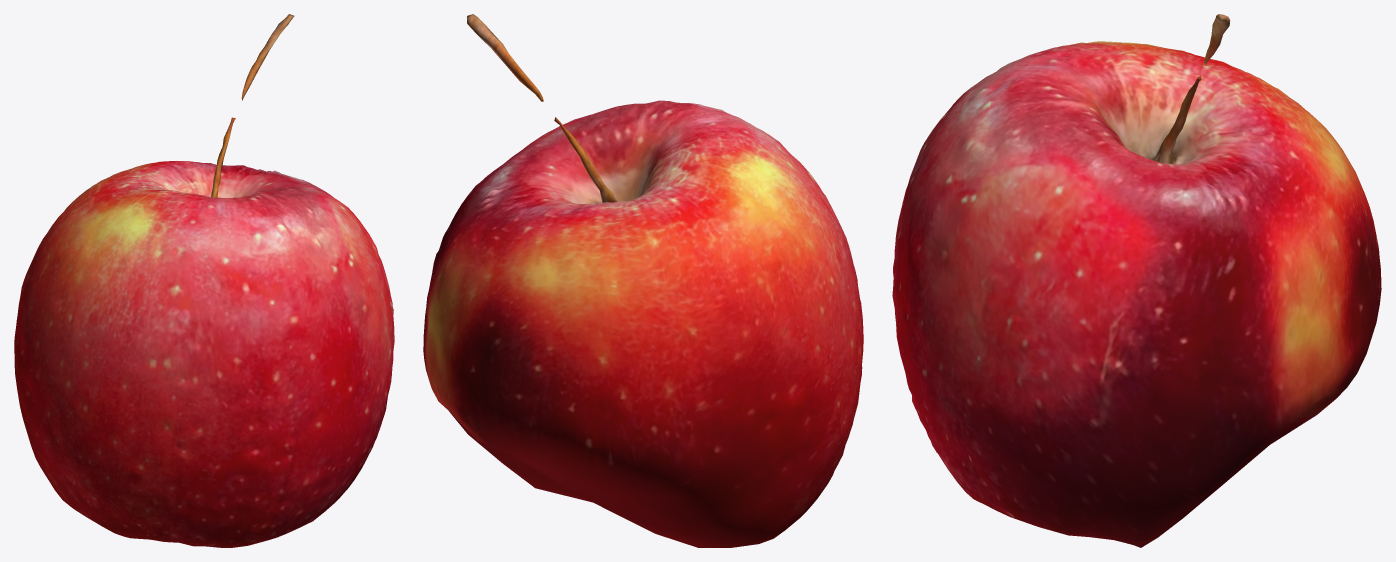
File: 3DModel_LowPoly.obj
The picture shows the model from 3 angles, left to right: view 1: azimuth 30°, elevation 25°; view 2: azimuth 150°, elevation 25°; view 3: azimuth 270°, elevation 25°; orthographic projection. The views are drawn at different scales.
Parts seen in each view (by area): view 1: 3DModel_LowPoly; view 2: 3DModel_LowPoly; view 3: 3DModel_LowPoly.
Boxes of the visible parts, bbox=[...] form: 3DModel_LowPoly: bbox=[14, 14, 394, 547]; 3DModel_LowPoly: bbox=[423, 14, 863, 547]; 3DModel_LowPoly: bbox=[892, 14, 1381, 547].
Bounding box in the file's own units: 0.066 × 0.0823 × 0.0661.
1 material, 1 textured.
